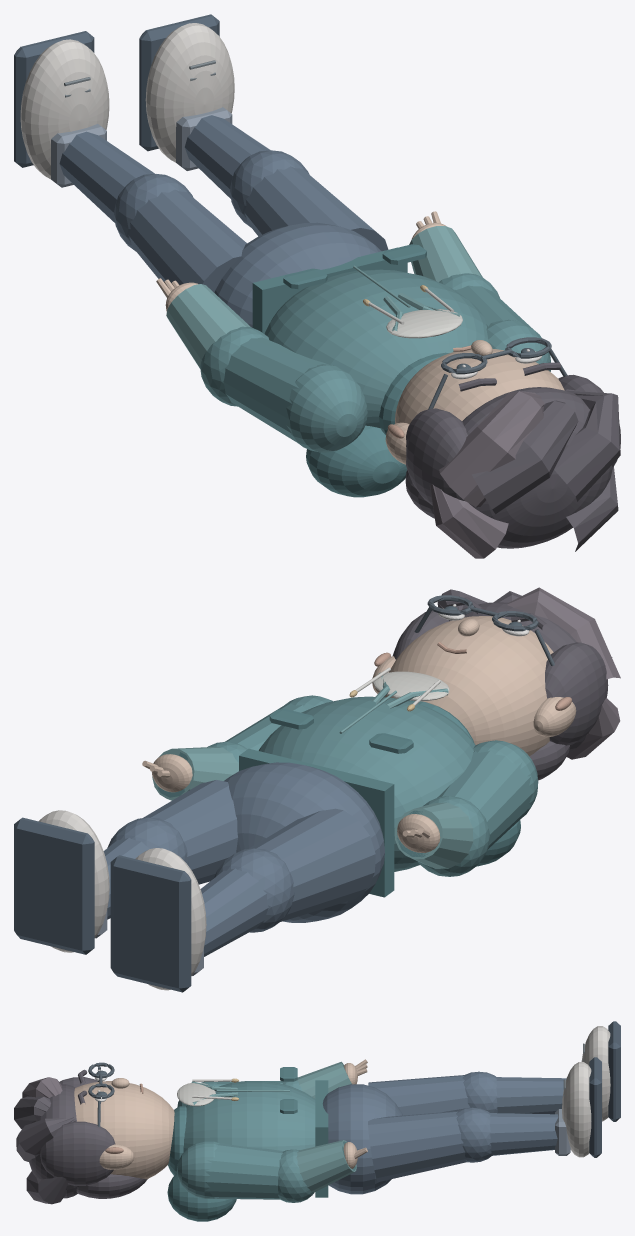
The model's file is developer_walk_0.glb.
The picture shows the model from 3 angles, top to bottom: view 1: azimuth 30°, elevation 25°; view 2: azimuth 150°, elevation 25°; view 3: azimuth 270°, elevation 25°; orthographic projection. The views are drawn at different scales.
Visible parts, largest first — view 1: 0000__hoodie_main_torso, 0046__jeans_thigh, 0050__sneaker, 0069__sneaker, 0014__pants_pelvis, 0022__hair_crown, 0017__face_head, 0056__hoodie_shoulder, 0057__sleeve_upper, 0065__jeans_thigh, 0026__hair_lock_0, 0027__hair_lock_1 (+21 smaller); view 2: 0000__hoodie_main_torso, 0017__face_head, 0051__rubber_sole, 0070__rubber_sole, 0014__pants_pelvis, 0046__jeans_thigh, 0065__jeans_thigh, 0057__sleeve_upper, 0024__temple_side, 0048__jeans_shin, 0015__hoodie_hem, 0047__knee_fold (+22 smaller); view 3: 0000__hoodie_main_torso, 0017__face_head, 0065__jeans_thigh, 0014__pants_pelvis, 0076__sleeve_upper, 0025__temple_side, 0046__jeans_thigh, 0067__jeans_shin, 0048__jeans_shin, 0069__sneaker, 0078__sleeve_forearm, 0075__hoodie_shoulder (+19 smaller).
Boxes of the visible parts, bbox=[...] form: 0000__hoodie_main_torso: bbox=[264, 269, 488, 428]; 0046__jeans_thigh: bbox=[128, 189, 246, 292]; 0050__sneaker: bbox=[20, 39, 109, 179]; 0069__sneaker: bbox=[145, 23, 234, 162]; 0014__pants_pelvis: bbox=[214, 222, 381, 327]; 0022__hair_crown: bbox=[462, 387, 612, 548]; 0017__face_head: bbox=[395, 348, 564, 423]; 0056__hoodie_shoulder: bbox=[286, 364, 367, 452]; 0057__sleeve_upper: bbox=[223, 337, 328, 443]; 0065__jeans_thigh: bbox=[244, 166, 388, 251]; 0026__hair_lock_0: bbox=[439, 391, 544, 507]; 0027__hair_lock_1: bbox=[471, 400, 578, 514]; 0000__hoodie_main_torso: bbox=[258, 696, 475, 871]; 0017__face_head: bbox=[384, 616, 553, 756]; 0051__rubber_sole: bbox=[110, 855, 191, 992]; 0070__rubber_sole: bbox=[14, 817, 94, 954]; 0014__pants_pelvis: bbox=[224, 762, 384, 922]; 0046__jeans_thigh: bbox=[249, 808, 375, 921]; 0065__jeans_thigh: bbox=[142, 780, 237, 884]; 0057__sleeve_upper: bbox=[437, 750, 533, 849]; 0024__temple_side: bbox=[545, 642, 608, 745]; 0048__jeans_shin: bbox=[200, 868, 268, 956]; 0015__hoodie_hem: bbox=[239, 748, 394, 897]; 0047__knee_fold: bbox=[213, 848, 294, 932]; 0000__hoodie_main_torso: bbox=[183, 1081, 315, 1151]; 0017__face_head: bbox=[74, 1081, 174, 1179]; 0065__jeans_thigh: bbox=[368, 1111, 466, 1181]; 0014__pants_pelvis: bbox=[322, 1084, 402, 1194]; 0076__sleeve_upper: bbox=[205, 1142, 283, 1199]; 0025__temple_side: bbox=[40, 1121, 115, 1185]; 0046__jeans_thigh: bbox=[368, 1075, 470, 1115]; 0067__jeans_shin: bbox=[489, 1113, 558, 1155]; 0048__jeans_shin: bbox=[496, 1077, 566, 1114]; 0069__sneaker: bbox=[562, 1062, 591, 1157]; 0078__sleeve_forearm: bbox=[296, 1140, 356, 1192]; 0075__hoodie_shoulder: bbox=[177, 1141, 219, 1198].
Size of the model in its own units: 0.764 by 0.5728 by 2.07.
